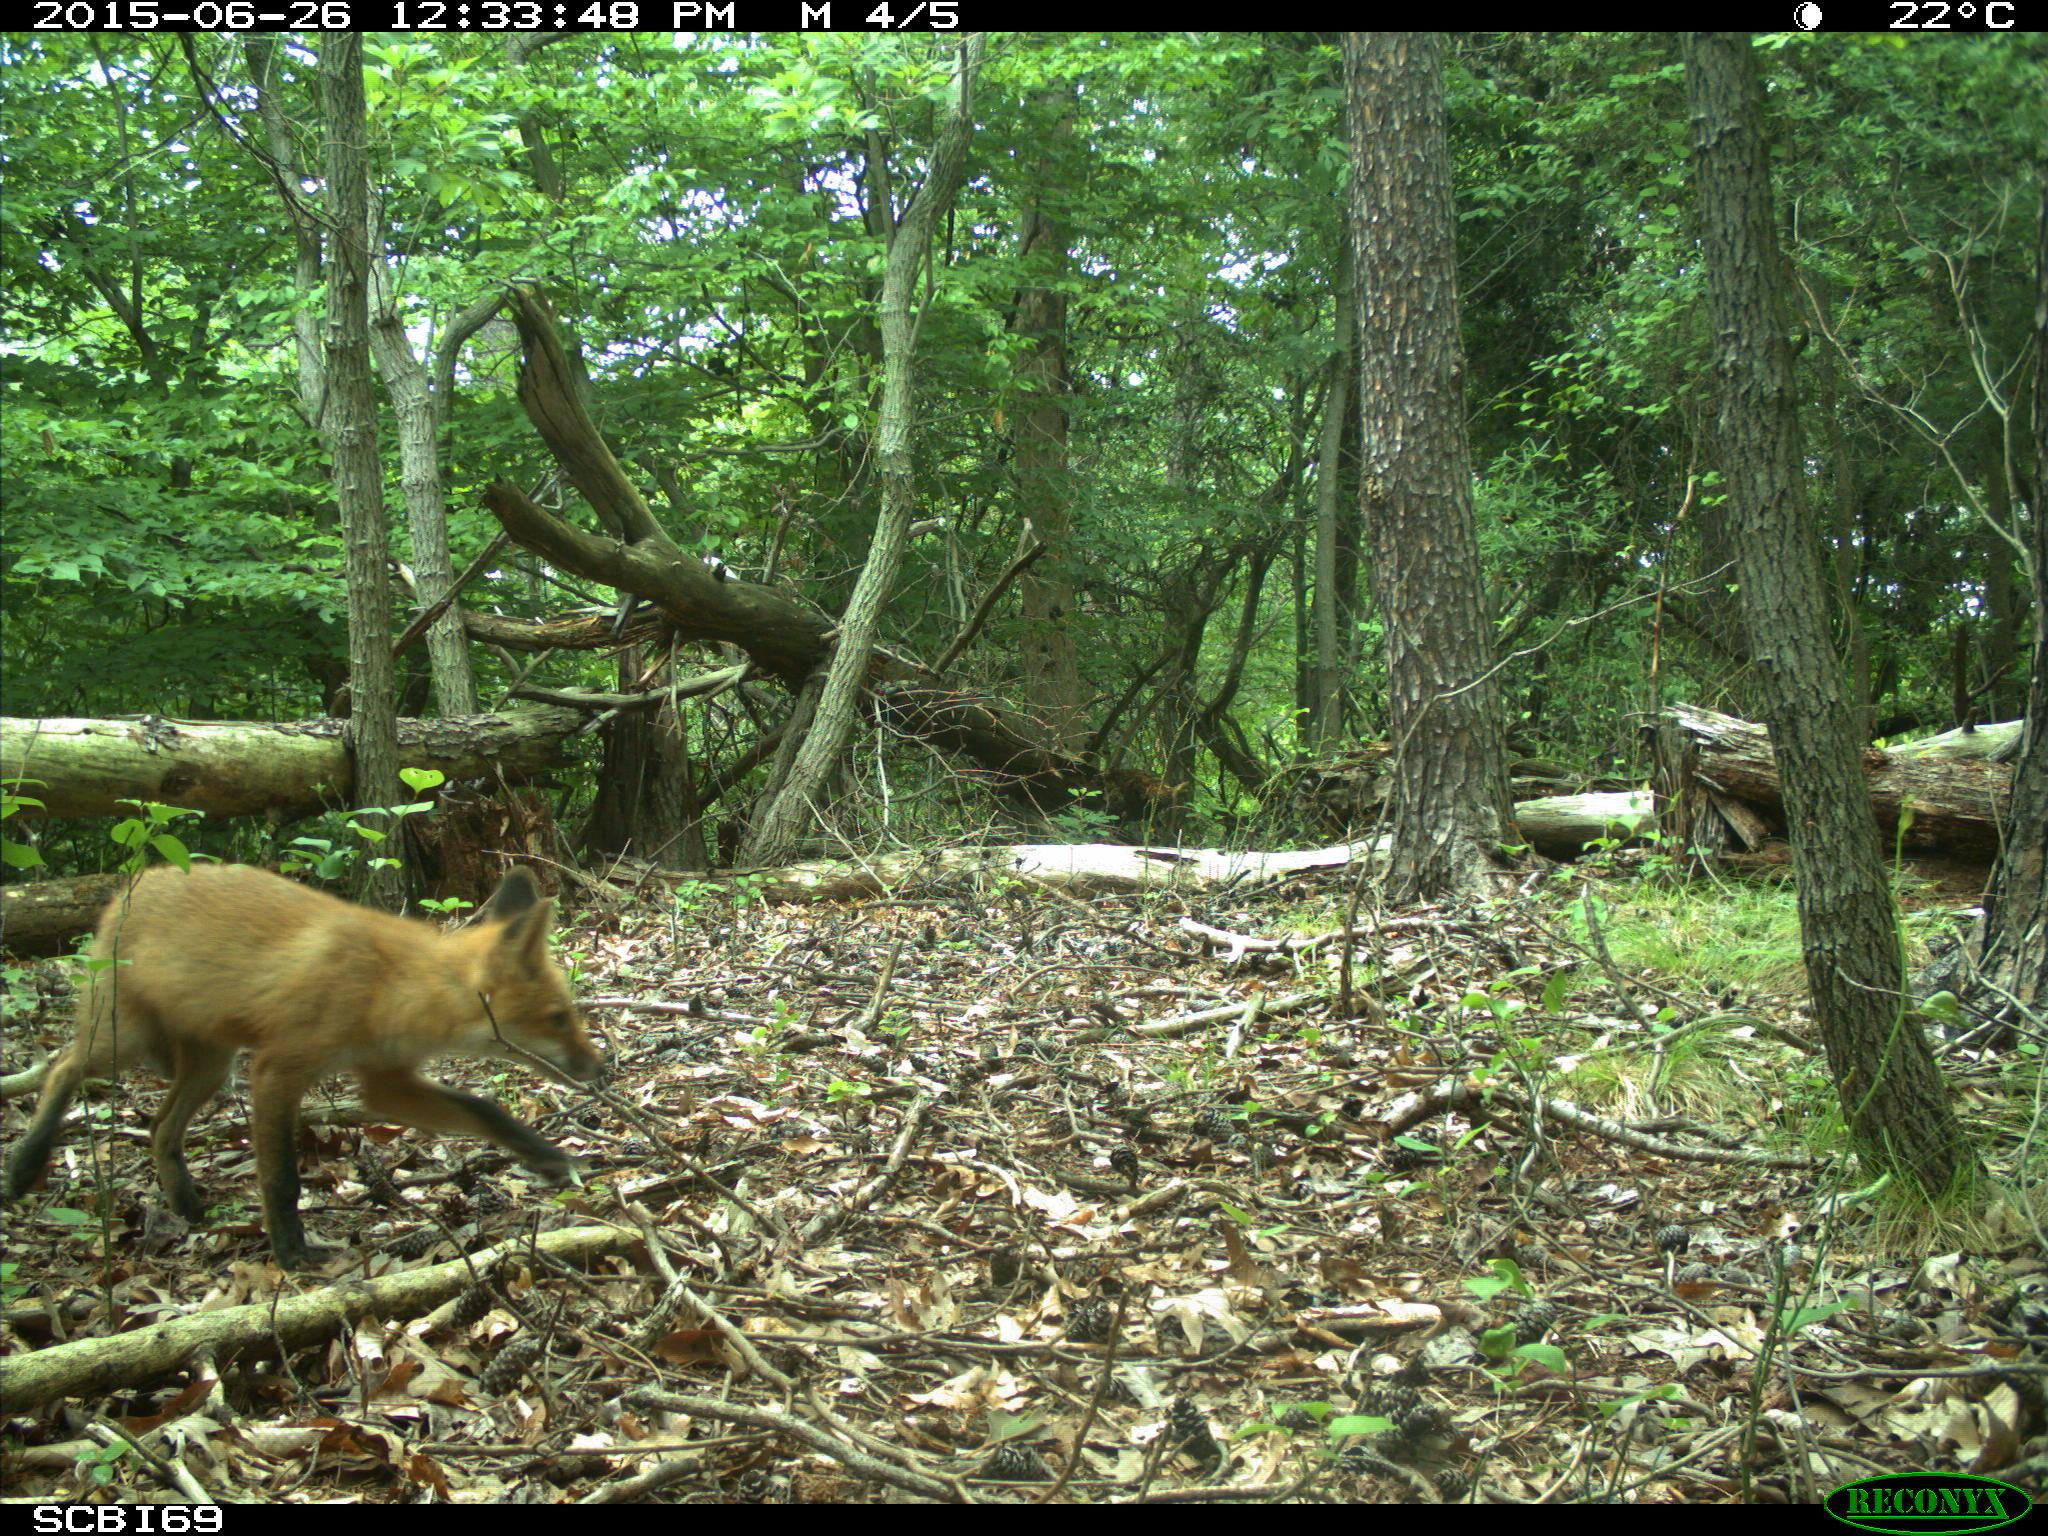Animal: (5, 857, 608, 1265)
